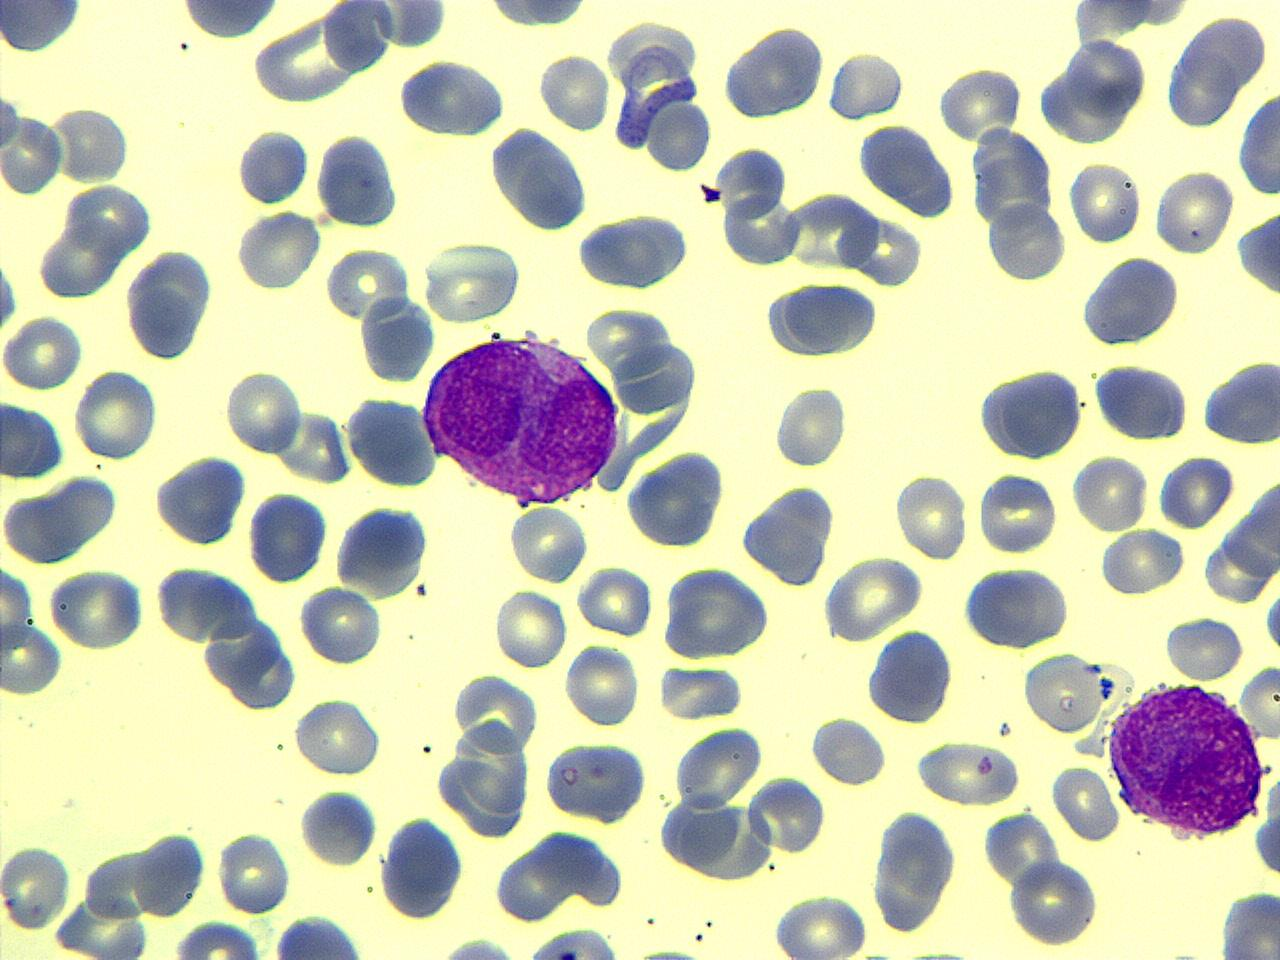Platelets: (434, 936, 523, 960), (0, 253, 20, 337)
RBC: (432, 717, 537, 839), (870, 807, 964, 939), (622, 448, 730, 550), (660, 564, 770, 662), (960, 562, 1075, 650), (1051, 34, 1147, 139), (251, 11, 353, 106), (342, 392, 441, 488), (542, 737, 650, 825), (822, 552, 926, 642), (419, 238, 526, 324), (397, 56, 509, 138), (1008, 854, 1101, 949), (49, 564, 146, 653), (245, 486, 332, 584), (1092, 360, 1192, 444), (669, 724, 765, 810), (74, 367, 159, 463), (450, 670, 540, 756), (291, 695, 383, 779), (1151, 166, 1235, 257), (298, 581, 383, 669), (984, 198, 1070, 284), (913, 738, 1021, 806), (1022, 648, 1106, 734), (235, 206, 319, 292), (506, 500, 590, 586), (976, 468, 1058, 556), (322, 242, 412, 322), (894, 469, 969, 564), (224, 366, 304, 455), (357, 294, 436, 384), (936, 64, 1023, 145), (131, 829, 209, 919), (562, 640, 640, 730), (770, 891, 872, 959), (49, 102, 132, 184), (0, 839, 72, 933), (772, 381, 848, 470), (1067, 157, 1143, 246), (216, 826, 292, 914), (494, 584, 570, 672), (1070, 451, 1150, 534), (984, 805, 1062, 889), (1, 312, 82, 392), (1096, 525, 1186, 597), (746, 774, 826, 854), (234, 125, 311, 207), (824, 48, 908, 123), (298, 786, 376, 866), (538, 50, 612, 133), (1156, 452, 1234, 530), (577, 562, 654, 639), (1050, 762, 1122, 844), (808, 712, 886, 786), (0, 396, 67, 482), (1163, 614, 1243, 682), (2, 109, 66, 193), (656, 663, 744, 722), (0, 616, 64, 697), (0, 0, 87, 57), (172, 0, 288, 42), (1235, 196, 1279, 301), (1215, 886, 1280, 956), (514, 924, 630, 959), (171, 918, 265, 959), (478, 0, 596, 31), (0, 560, 35, 662), (1238, 662, 1280, 742)
WBC: (420, 325, 622, 509), (1104, 678, 1270, 842), (968, 140, 1074, 280), (656, 780, 778, 886), (435, 716, 536, 837), (868, 804, 960, 936), (736, 478, 842, 589), (488, 123, 594, 234), (623, 444, 732, 550), (122, 244, 219, 363), (659, 564, 773, 664), (720, 20, 828, 125), (974, 362, 1086, 463), (852, 119, 960, 222), (199, 608, 303, 712), (1077, 250, 1183, 350), (762, 277, 882, 363), (332, 501, 433, 602), (574, 207, 694, 292), (959, 564, 1073, 652), (376, 812, 467, 922), (396, 56, 512, 141), (343, 392, 441, 492), (542, 735, 650, 825), (152, 450, 250, 548), (864, 626, 956, 727), (315, 129, 402, 229), (1097, 356, 1193, 444), (358, 290, 436, 387), (1200, 354, 1280, 448), (131, 829, 210, 919), (235, 124, 311, 208), (1, 396, 69, 481), (1235, 78, 1280, 202), (0, 0, 91, 57), (266, 911, 374, 958), (1215, 885, 1279, 960), (172, 0, 290, 40), (1235, 203, 1280, 303), (510, 924, 634, 959)
